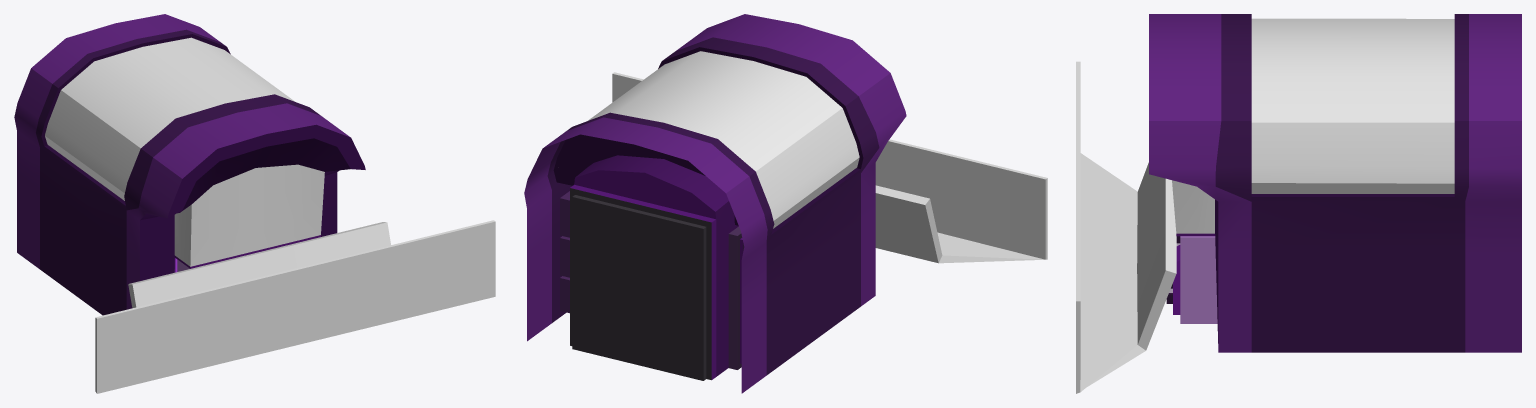
Rendered from Paddle.glb.
The picture shows the model from 3 angles, left to right: view 1: azimuth 30°, elevation 25°; view 2: azimuth 150°, elevation 25°; view 3: azimuth 270°, elevation 25°; orthographic projection. The views are drawn at different scales.
Visible parts, largest first — view 1: Cube; view 2: Cube; view 3: Cube.
Part boxes in pixels (left/top/right/bottom): Cube: left=14, top=14, right=495, bottom=393; Cube: left=524, top=14, right=1047, bottom=393; Cube: left=1076, top=14, right=1521, bottom=393.
Size of the model in its own units: 9.09 by 4.53 by 7.14.
Materials: 4 (1 with a texture image).
